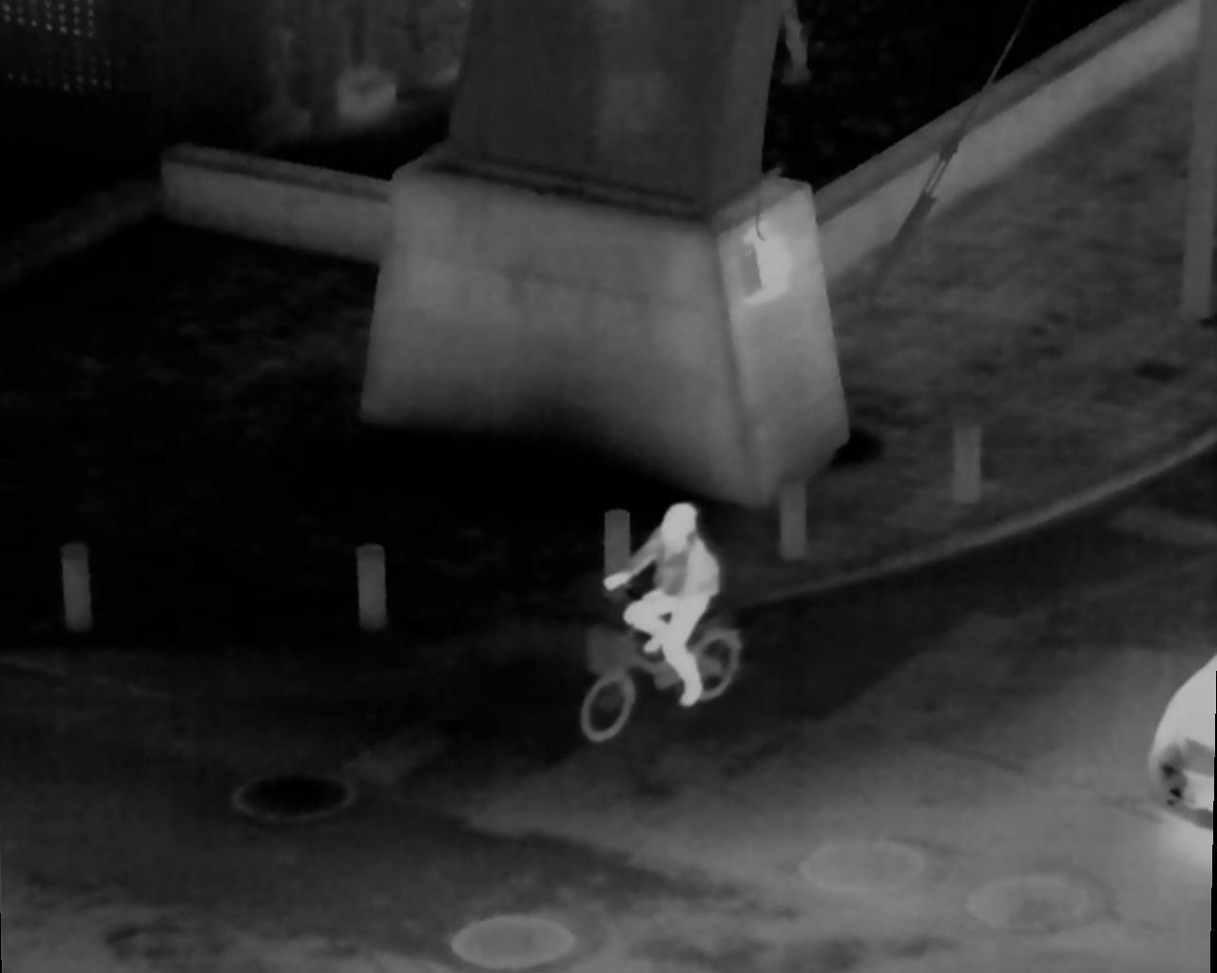person: (619, 506, 715, 693)
